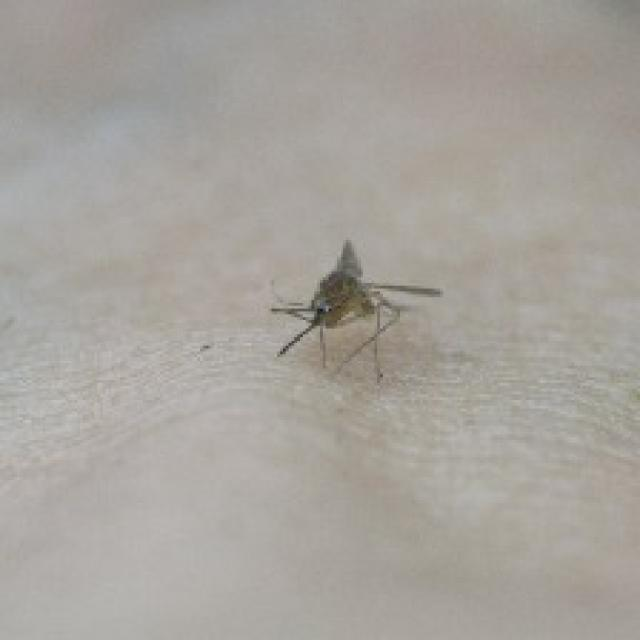culex: (268, 234, 443, 383)
